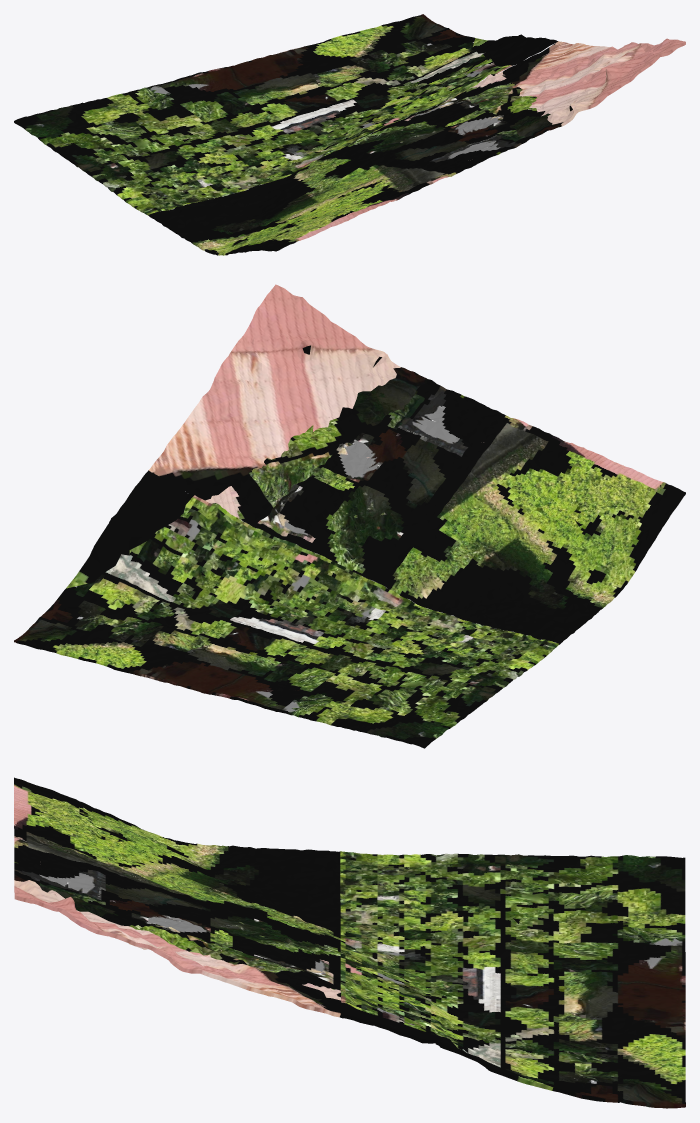
3 views of the same model, one above another, from view 1: azimuth 30°, elevation 25°; view 2: azimuth 150°, elevation 25°; view 3: azimuth 270°, elevation 25° (orthographic). The views are drawn at different scales.
Parts seen in each view (by area): view 1: node_135; view 2: node_135; view 3: node_135.
Boxes of the visible parts, box(x1,y1,x2,y2) form: node_135: box(14, 14, 685, 255); node_135: box(14, 284, 685, 748); node_135: box(14, 777, 685, 1108).
Size of the model in its own units: 9 by 3.62 by 9.96.
Materials: 1 (1 with a texture image).
